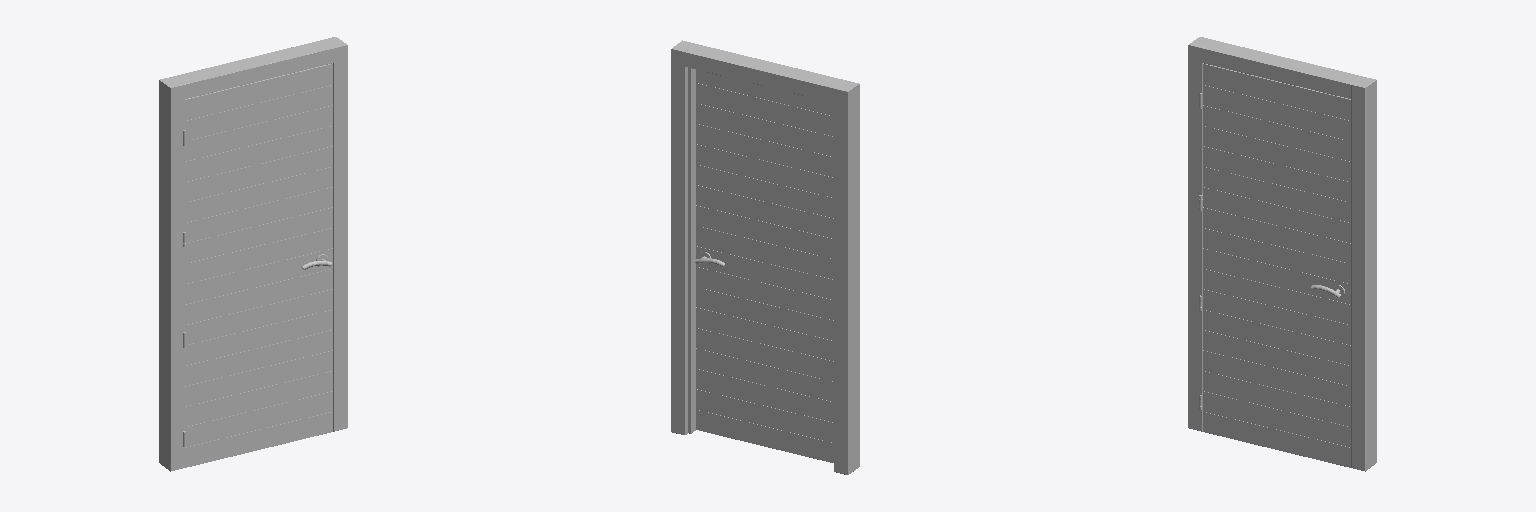
Rendered from door.obj.
3 renders of one model, left to right at view 1: azimuth 30°, elevation 25°; view 2: azimuth 150°, elevation 25°; view 3: azimuth 330°, elevation 25°, orthographic.
Parts seen in each view (by area): view 1: AM109_063_00, AM109_063_01; view 2: AM109_063_00, AM109_063_01; view 3: AM109_063_00, AM109_063_01.
Part boxes in pixels (x1,y1,x2,y2): AM109_063_00: (183,63,332,467); AM109_063_01: (159,37,347,471); AM109_063_00: (695,70,833,462); AM109_063_01: (671,40,859,474); AM109_063_00: (1199,63,1350,467); AM109_063_01: (1188,37,1376,471).
Size of the model in its own units: 1010 by 2090 by 165.